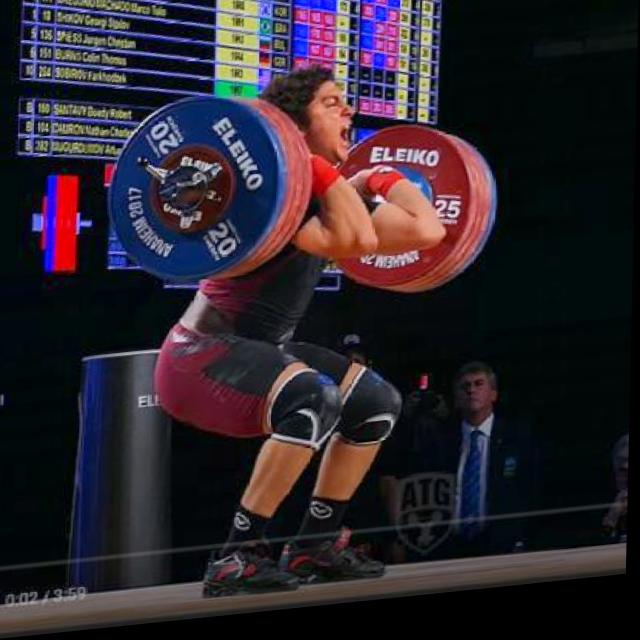barbell: (105, 88, 294, 298)
